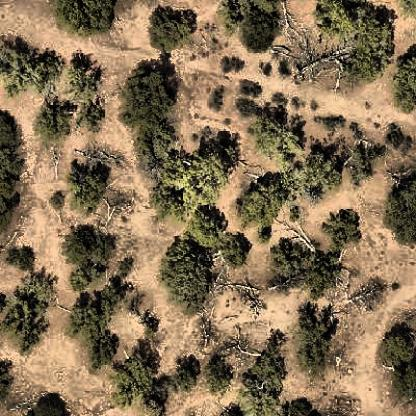tree-top: (116, 60, 180, 138), (166, 144, 233, 209), (244, 101, 312, 165), (348, 10, 401, 88), (161, 230, 213, 307), (292, 145, 352, 200), (0, 39, 56, 97), (241, 344, 285, 416), (232, 174, 290, 228), (108, 349, 164, 403), (145, 2, 198, 52), (292, 311, 335, 372), (0, 290, 44, 349), (63, 222, 116, 270), (62, 163, 111, 213), (52, 0, 119, 35), (385, 176, 416, 247), (62, 294, 106, 342), (316, 0, 362, 42), (61, 56, 102, 101), (302, 251, 343, 295), (33, 100, 74, 142), (378, 323, 416, 368), (240, 10, 280, 51), (266, 238, 303, 282), (322, 209, 361, 250), (186, 210, 226, 248), (393, 49, 416, 115), (86, 331, 122, 369), (219, 232, 253, 269), (1, 112, 23, 167), (202, 352, 231, 392), (0, 243, 39, 272), (149, 184, 180, 219), (0, 166, 19, 222), (350, 141, 375, 183), (169, 358, 199, 392), (215, 2, 246, 34), (75, 101, 105, 134), (30, 393, 71, 416), (394, 359, 415, 403), (134, 393, 170, 416), (280, 397, 319, 416)
